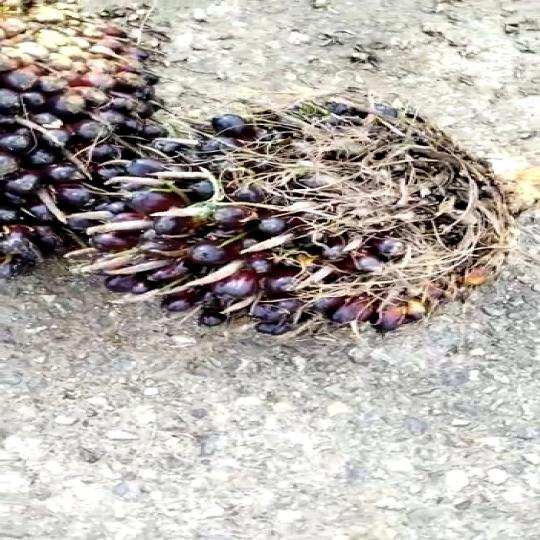mentah: (96, 74, 540, 330), (0, 0, 204, 294)
